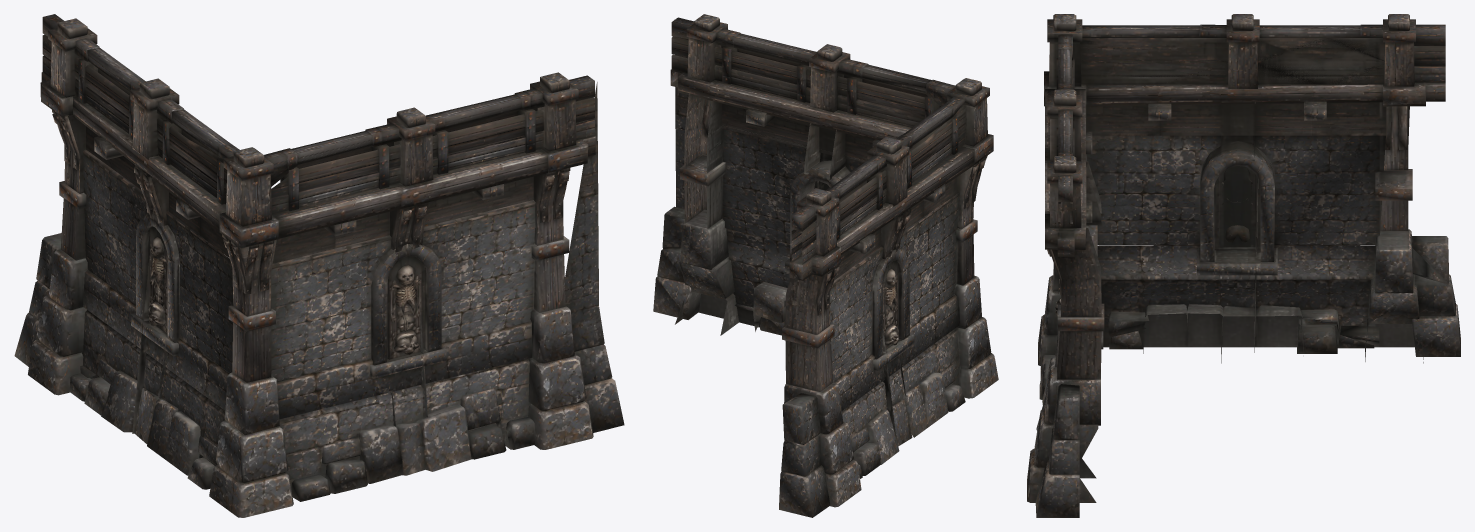
The model's file is wall-corner.glb.
3 views of the same model, side by side, from view 1: azimuth 30°, elevation 25°; view 2: azimuth 150°, elevation 25°; view 3: azimuth 270°, elevation 25° (orthographic). The views are drawn at different scales.
Visible parts, largest first — view 1: tripo_node_cb335b8e-5535-47da-842f-a9477667fdd1; view 2: tripo_node_cb335b8e-5535-47da-842f-a9477667fdd1; view 3: tripo_node_cb335b8e-5535-47da-842f-a9477667fdd1.
Boxes of the visible parts, bbox=[...] form: tripo_node_cb335b8e-5535-47da-842f-a9477667fdd1: bbox=[14, 14, 624, 517]; tripo_node_cb335b8e-5535-47da-842f-a9477667fdd1: bbox=[653, 14, 998, 517]; tripo_node_cb335b8e-5535-47da-842f-a9477667fdd1: bbox=[1027, 14, 1460, 517].
Size of the model in its own units: 3.28 by 2.78 by 3.28.
1 material, 1 textured.
